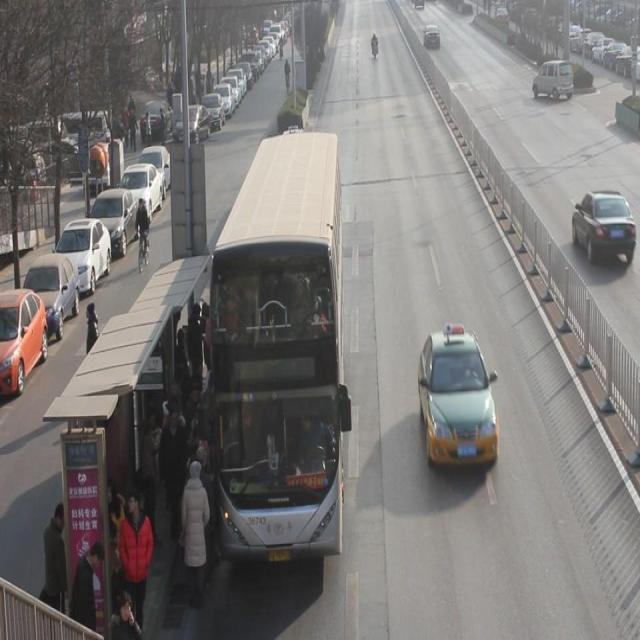car: (418, 326, 500, 476), (572, 191, 631, 268), (422, 24, 441, 51)
truck: (531, 58, 575, 104)
van: (208, 126, 342, 555)
